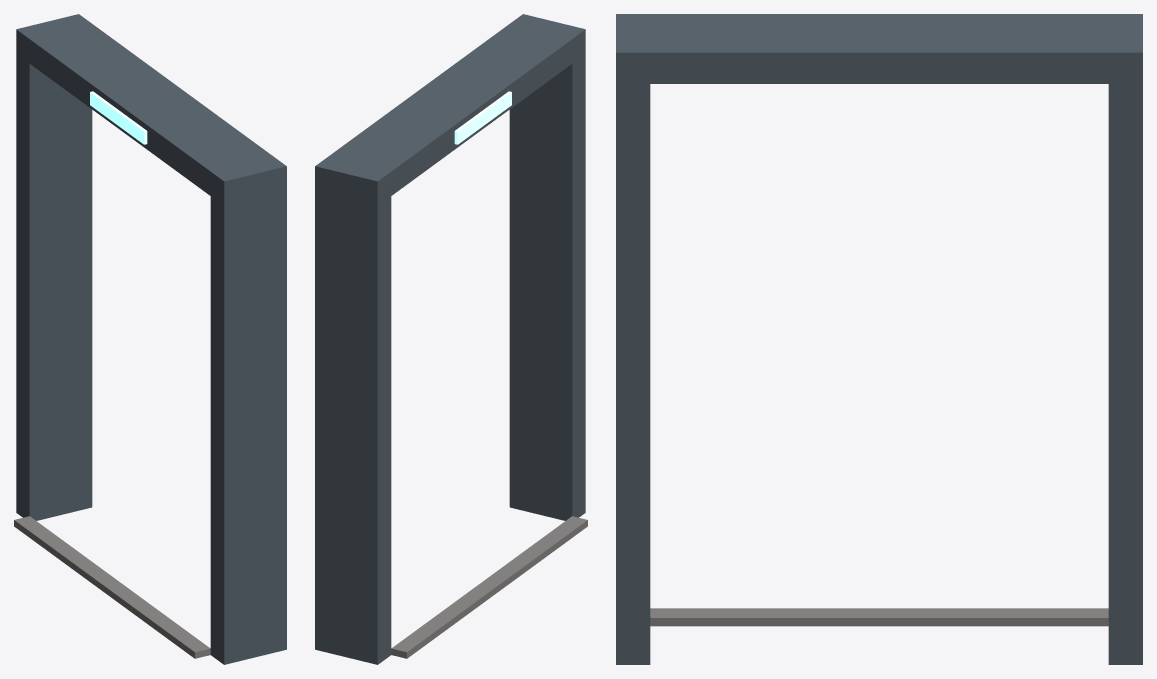
File: B_k_frame_p_auth.glb
The picture shows the model from 3 angles, left to right: view 1: azimuth 30°, elevation 25°; view 2: azimuth 150°, elevation 25°; view 3: azimuth 270°, elevation 25°; orthographic projection. The views are drawn at different scales.
Visible parts, largest first — view 1: Cube.001, Cube, Cube.002, Cube.003, Cube.004; view 2: Cube, Cube.001, Cube.002, Cube.003, Cube.004; view 3: Cube.002, Cube, Cube.001, Cube.003.
Part boxes in pixels (bbox=[...]): Cube.001: bbox=[210, 191, 286, 664]; Cube: bbox=[16, 54, 92, 520]; Cube.002: bbox=[16, 14, 286, 205]; Cube.003: bbox=[14, 516, 210, 658]; Cube.004: bbox=[90, 91, 147, 144]; Cube: bbox=[315, 191, 391, 664]; Cube.001: bbox=[509, 54, 585, 520]; Cube.002: bbox=[315, 14, 585, 205]; Cube.003: bbox=[391, 516, 587, 658]; Cube.004: bbox=[454, 91, 511, 144]; Cube.002: bbox=[616, 14, 1142, 83]; Cube: bbox=[1108, 84, 1142, 664]; Cube.001: bbox=[616, 84, 650, 664]; Cube.003: bbox=[650, 608, 1108, 626].
Size of the model in its own units: 0.5 by 2.95 by 2.3.
